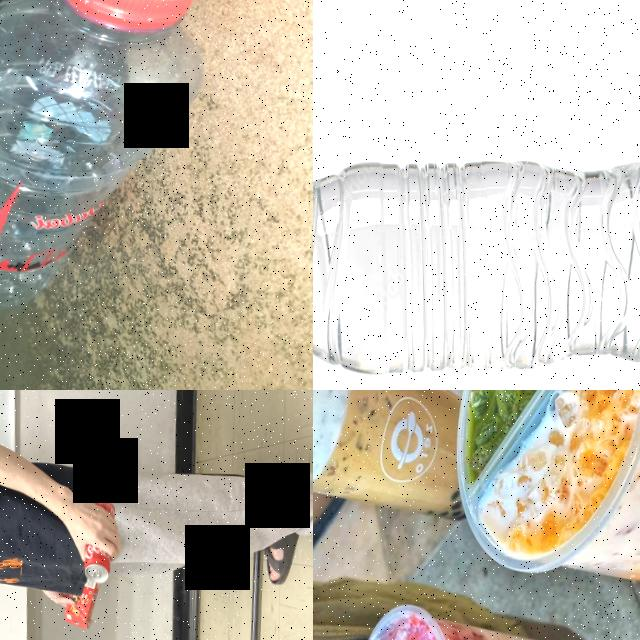bottle: (313, 152, 640, 389), (0, 0, 218, 317)
can: (80, 494, 119, 583)
cup: (446, 390, 640, 624), (313, 390, 473, 535)
